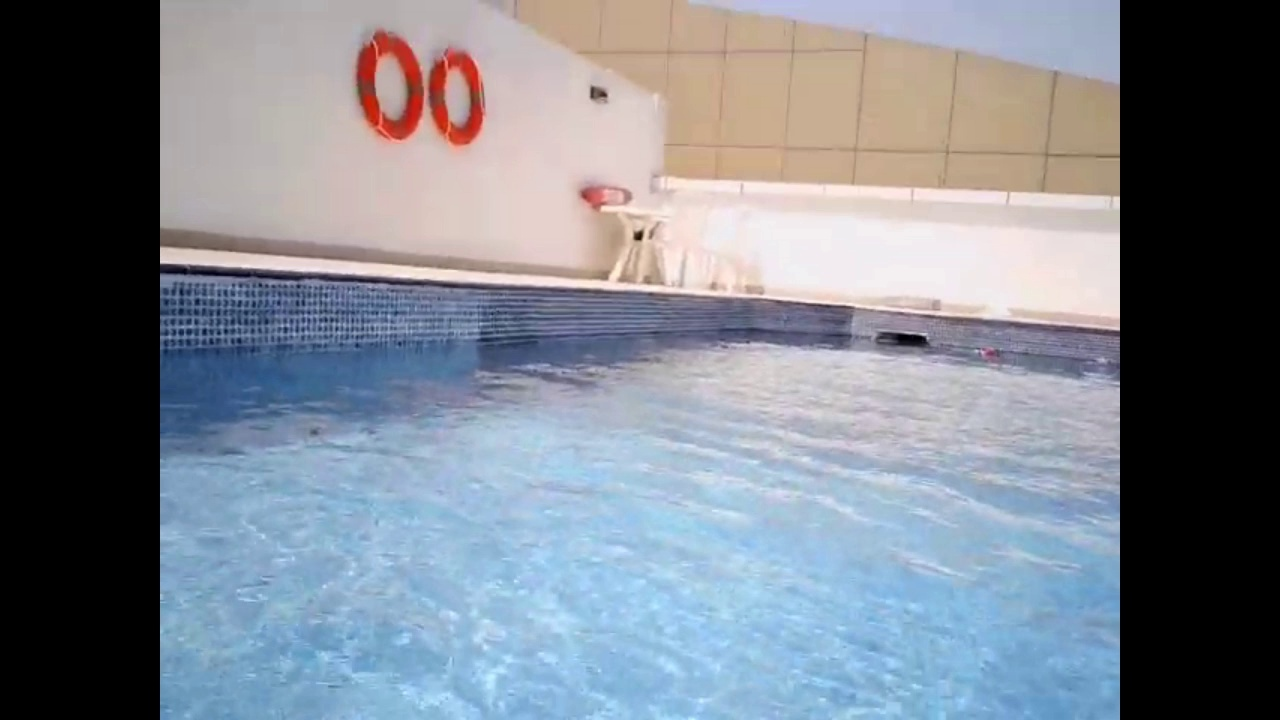debris: (979, 344, 1006, 363), (1087, 351, 1114, 369)
